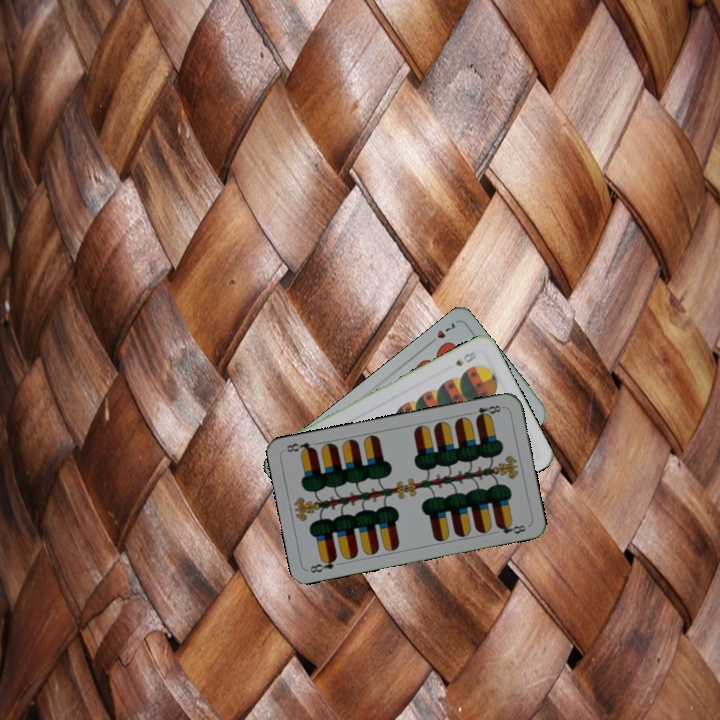E8: (466, 401, 506, 422), (306, 553, 340, 576)
H7: (424, 318, 458, 348)
S8: (451, 347, 479, 369)
